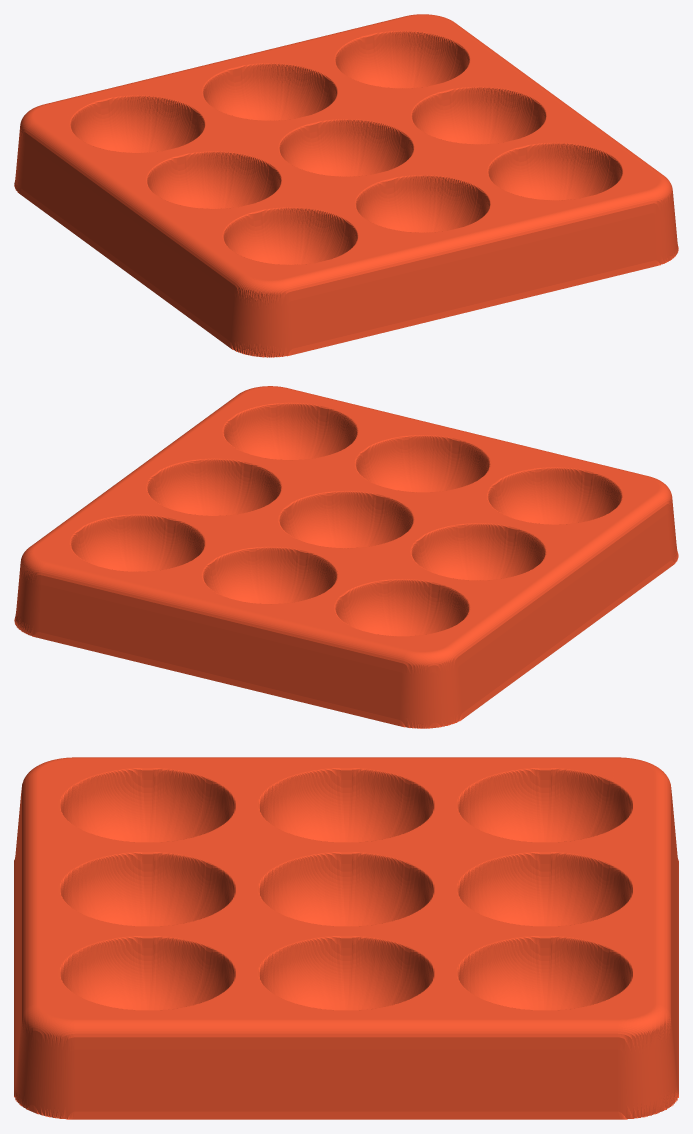
The model's file is mold.glb.
3 views of the same model, one above another, from view 1: azimuth 30°, elevation 25°; view 2: azimuth 150°, elevation 25°; view 3: azimuth 270°, elevation 25° (orthographic). The views are drawn at different scales.
Parts seen in each view (by area): view 1: geometry_0; view 2: geometry_0; view 3: geometry_0.
Boxes of the visible parts, x1,y1,x2,y2 form: geometry_0: [14, 14, 678, 357]; geometry_0: [14, 386, 678, 728]; geometry_0: [14, 757, 678, 1119].
Bounding box in the file's own units: 0.0984 × 0.0147 × 0.0984.
